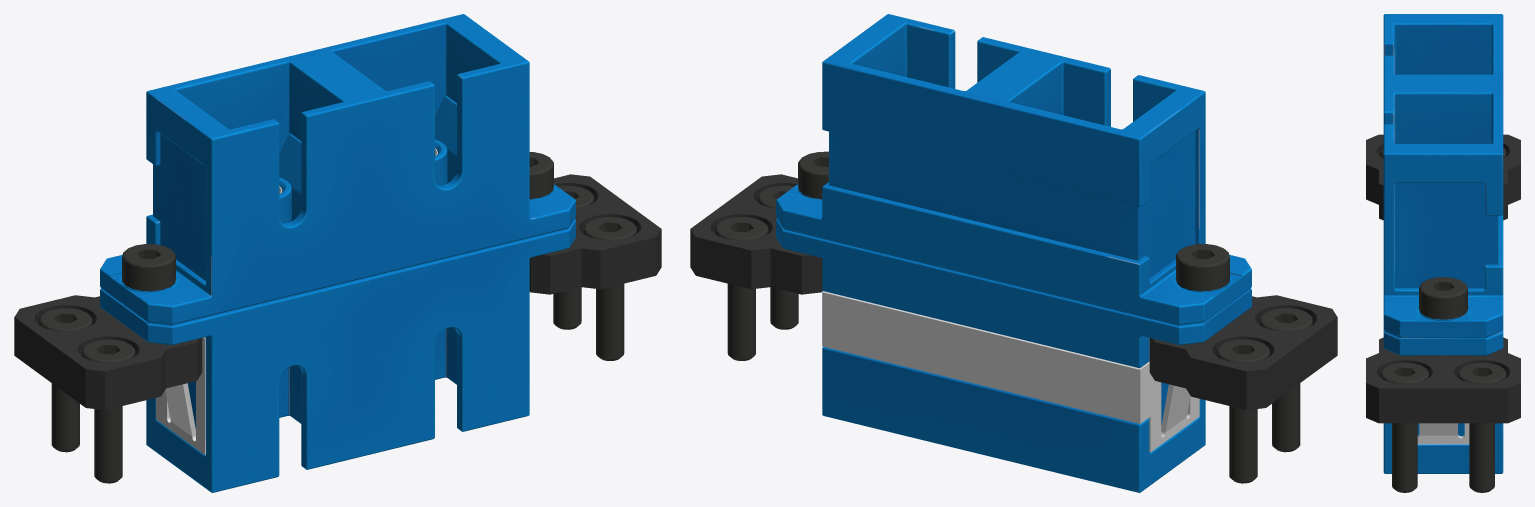
Rendered from sc_port_visual.glb.
The picture shows the model from 3 angles, left to right: view 1: azimuth 30°, elevation 25°; view 2: azimuth 150°, elevation 25°; view 3: azimuth 270°, elevation 25°; orthographic projection. The views are drawn at different scales.
Visible parts, largest first — view 1: FOA-005A_3D v1.001, V1015120.012, V1015120.013, ISO 4762 - M2 x 8.137, ISO 4762 - M2 x 8.139, ISO 4762 - M2 x 8.136, ISO 4762 - M2 x 6.012, ISO 4762 - M2 x 8.138, ISO 4762 - M2 x 6.013; view 2: FOA-005A_3D v1.001, V1015120.012, V1015120.013, ISO 4762 - M2 x 8.136, ISO 4762 - M2 x 8.138, ISO 4762 - M2 x 8.137, ISO 4762 - M2 x 6.012, ISO 4762 - M2 x 8.139, ISO 4762 - M2 x 6.013; view 3: FOA-005A_3D v1.001, V1015120.013, ISO 4762 - M2 x 8.139, ISO 4762 - M2 x 8.138, V1015120.012, ISO 4762 - M2 x 6.013.
Part boxes in pixels (x1,y1,x2,y2): FOA-005A_3D v1.001: (100, 14, 575, 492); V1015120.012: (14, 295, 202, 410); V1015120.013: (529, 174, 661, 294); ISO 4762 - M2 x 8.137: (81, 339, 135, 483); ISO 4762 - M2 x 8.139: (583, 217, 636, 360); ISO 4762 - M2 x 8.136: (39, 308, 92, 452); ISO 4762 - M2 x 6.012: (122, 244, 175, 291); ISO 4762 - M2 x 8.138: (553, 185, 594, 329); ISO 4762 - M2 x 6.013: (529, 152, 553, 199); FOA-005A_3D v1.001: (776, 14, 1251, 492); V1015120.012: (1149, 295, 1337, 410); V1015120.013: (690, 174, 822, 294); ISO 4762 - M2 x 8.136: (1216, 339, 1270, 483); ISO 4762 - M2 x 8.138: (715, 217, 768, 360); ISO 4762 - M2 x 8.137: (1259, 308, 1312, 452); ISO 4762 - M2 x 6.012: (1176, 244, 1229, 291); ISO 4762 - M2 x 8.139: (757, 185, 798, 329); ISO 4762 - M2 x 6.013: (798, 151, 828, 199); FOA-005A_3D v1.001: (1383, 14, 1503, 473); V1015120.013: (1366, 337, 1520, 423); ISO 4762 - M2 x 8.139: (1380, 362, 1429, 492); ISO 4762 - M2 x 8.138: (1457, 362, 1506, 492); V1015120.012: (1366, 134, 1520, 220); ISO 4762 - M2 x 6.013: (1419, 277, 1467, 319).
Bounding box in the file's own units: 0.0466 × 0.0274 × 0.012.
3 materials, 1 textured.
